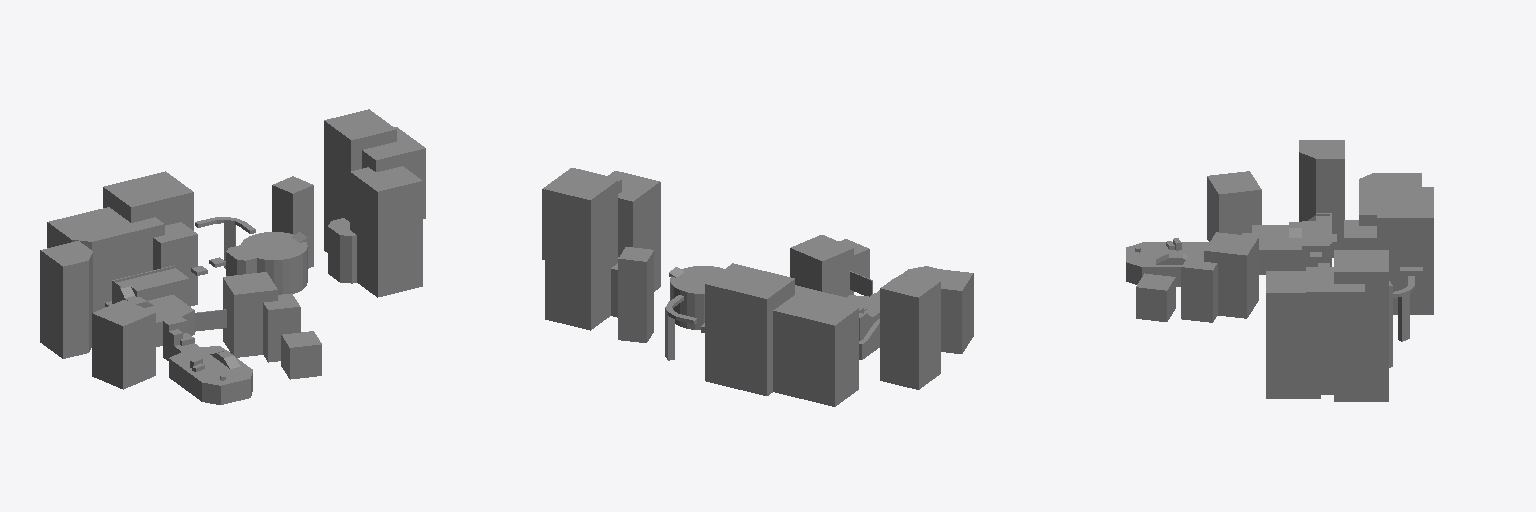
Rendered from level1_pbr.obj.
3 renders of one model, left to right at view 1: azimuth 30°, elevation 25°; view 2: azimuth 150°, elevation 25°; view 3: azimuth 270°, elevation 25°, orthographic.
Parts seen in each view (by area): view 1: entity0_brush36, entity0_brush41, entity0_brush40, entity0_brush12, entity0_brush38, entity0_brush19, entity0_brush9, entity0_brush21, entity0_brush42, entity0_brush20, entity0_brush39, entity0_brush10 (+9 smaller); view 2: entity0_brush38, entity0_brush41, entity0_brush19, entity0_brush40, entity0_brush36, entity0_brush42, entity0_brush9, entity0_brush12, entity0_brush21, entity0_brush11; view 3: entity0_brush38, entity0_brush19, entity0_brush36, entity0_brush39, entity0_brush40, entity0_brush9, entity0_brush12, entity0_brush10, __TB_empty.__TB_empty, entity0_brush11, entity0_brush41, entity0_brush25 (+2 smaller).
Part boxes in pixels (x1,y1,x2,y2): entity0_brush36: (350, 166, 422, 297); entity0_brush41: (47, 207, 164, 312); entity0_brush40: (40, 241, 92, 358); entity0_brush12: (92, 300, 155, 389); entity0_brush38: (324, 109, 396, 252); entity0_brush19: (103, 171, 193, 230); entity0_brush9: (223, 272, 277, 357); entity0_brush21: (241, 232, 307, 294); entity0_brush42: (272, 176, 313, 268); entity0_brush20: (153, 222, 197, 306); entity0_brush39: (362, 127, 425, 218); entity0_brush10: (263, 293, 300, 362); entity0_brush38: (545, 169, 617, 330); entity0_brush41: (773, 285, 858, 406); entity0_brush19: (705, 263, 794, 395); entity0_brush40: (880, 275, 940, 389); entity0_brush36: (608, 171, 660, 291); entity0_brush42: (618, 247, 653, 342); entity0_brush9: (790, 235, 853, 297); entity0_brush12: (924, 268, 973, 353); entity0_brush21: (670, 266, 723, 329); entity0_brush11: (839, 239, 869, 278); entity0_brush38: (1334, 250, 1388, 401); entity0_brush19: (1377, 187, 1433, 314); entity0_brush36: (1266, 271, 1320, 398); entity0_brush39: (1306, 267, 1364, 361); entity0_brush40: (1299, 140, 1344, 249); entity0_brush9: (1204, 232, 1258, 318); entity0_brush12: (1207, 171, 1261, 241); entity0_brush10: (1181, 253, 1217, 322); __TB_empty.__TB_empty: (1252, 215, 1329, 274); entity0_brush11: (1136, 273, 1175, 321); entity0_brush41: (1359, 173, 1421, 225); entity0_brush25: (1126, 259, 1181, 286).
Size of the model in its own units: 2520 by 864 by 1832.